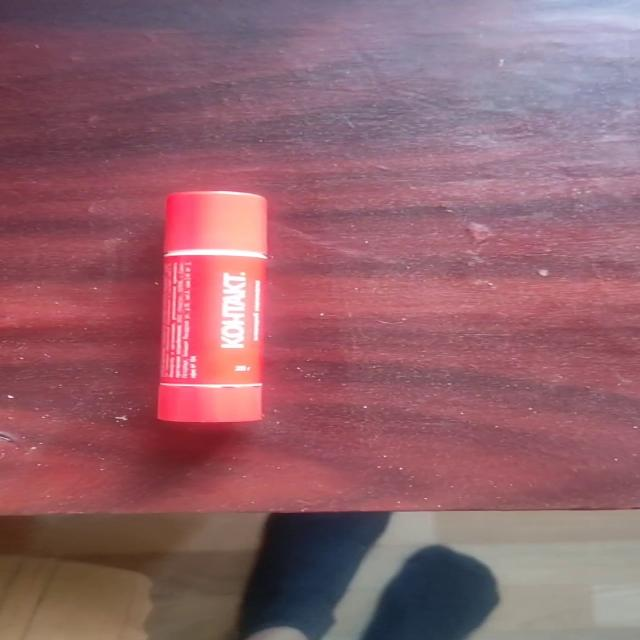glue: (156, 189, 270, 423)
